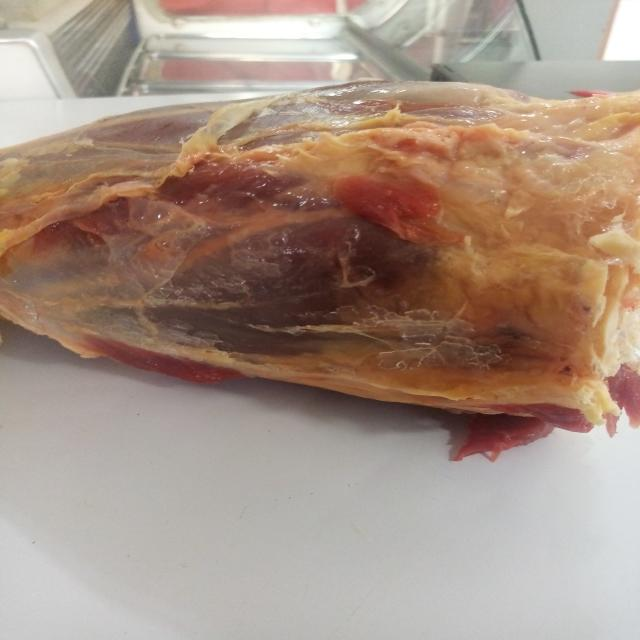Wet Waste: (9, 85, 640, 452)
